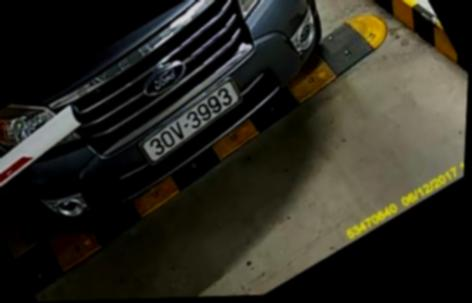License_Plate: (132, 72, 245, 163)
